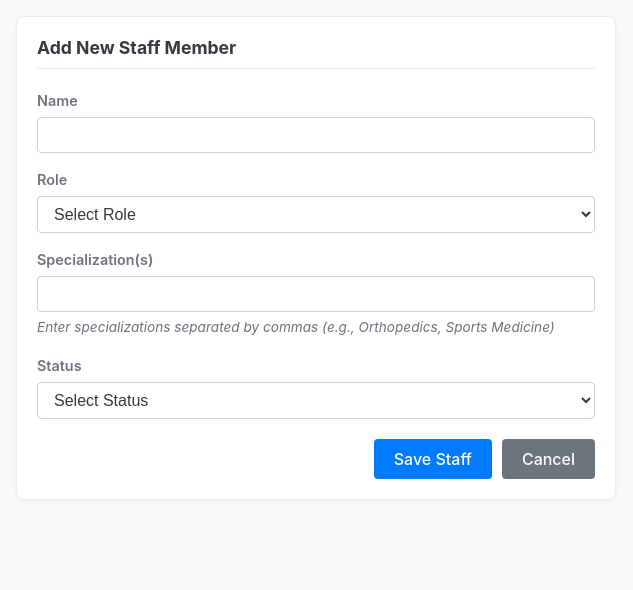
Test: AddStaffForm › clears validation errors on input
This screenshot has width=633, height=590.
// Submit once to show errors
Submit the form, box [37, 89, 595, 479]
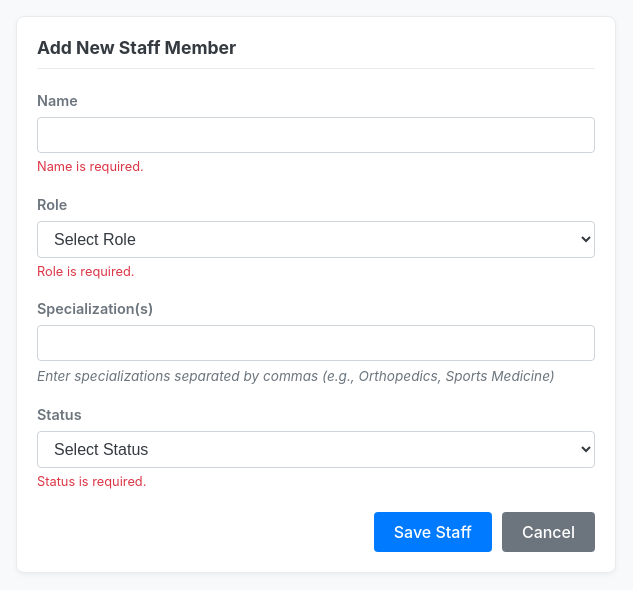
Result: the text "Name is required." is shown at [37, 159, 144, 174]
// Enter value and check if error clears
In the field with id "staff-name": x=316, y=135 [37, 117, 595, 153], type "Dr. Test"
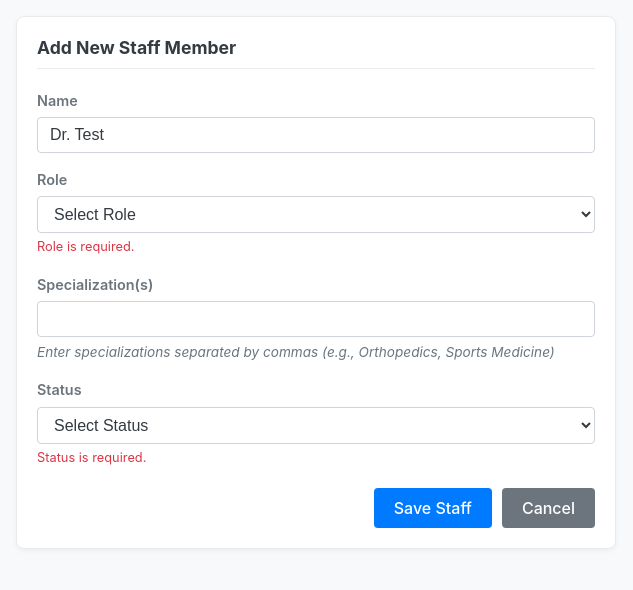
Result: the text "Name is required." is gone
// Also check for role error clearing
Select "Surgeon" in the dropdown with id "staff-role": x=316, y=215 [37, 196, 595, 233]
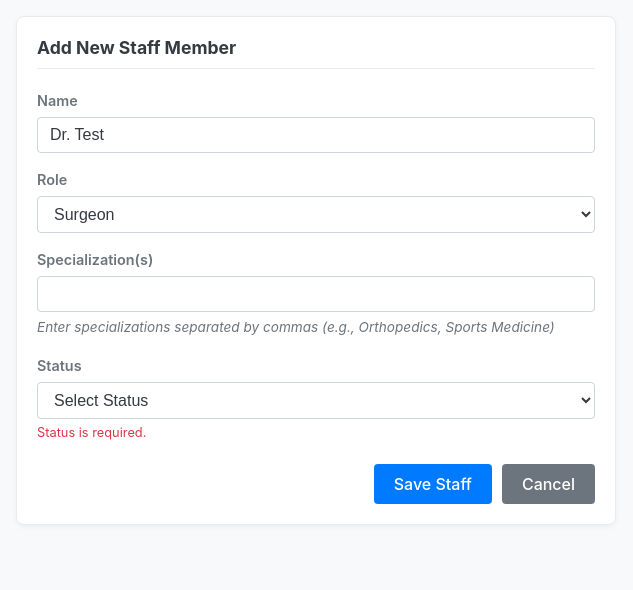
Result: the text "Role is required." is gone
